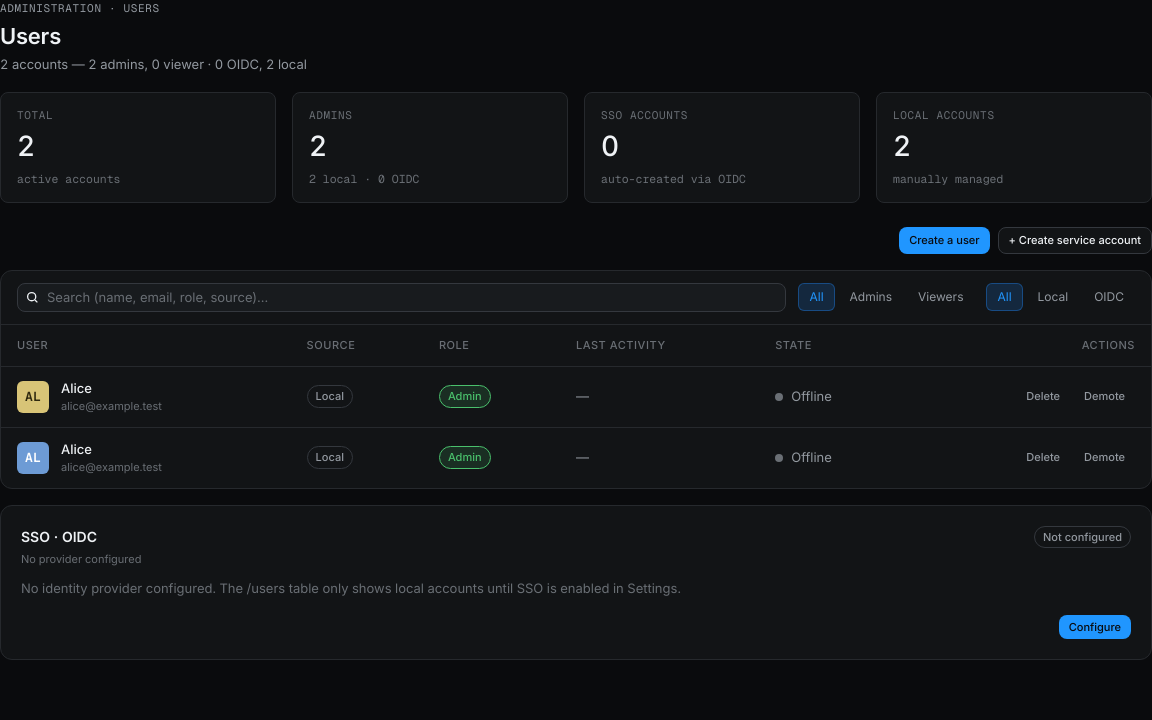
/utilisateurs — delete flow › confirm dialog → API → row removed
Click the button with test id "delete-btn-u1": (1043, 397) x1=1016 y1=384 x2=1070 y2=409
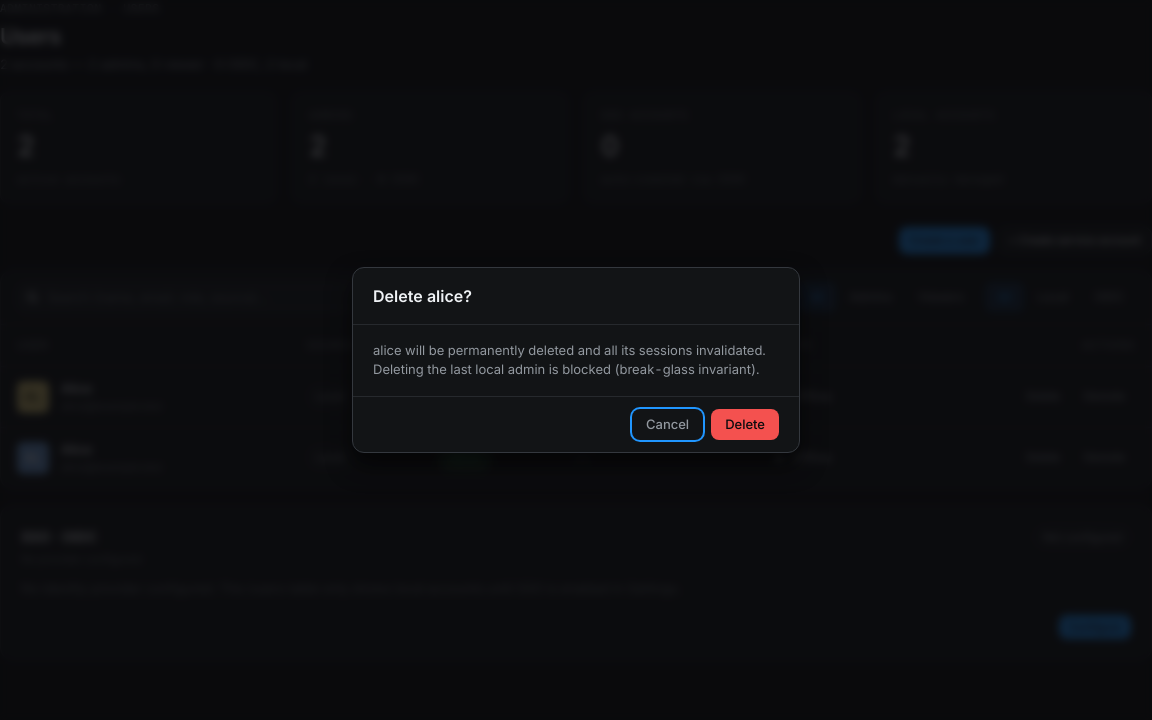
Expected: the button "Delete" is shown
Click the button "Delete": (745, 425) x1=711 y1=409 x2=779 y2=440
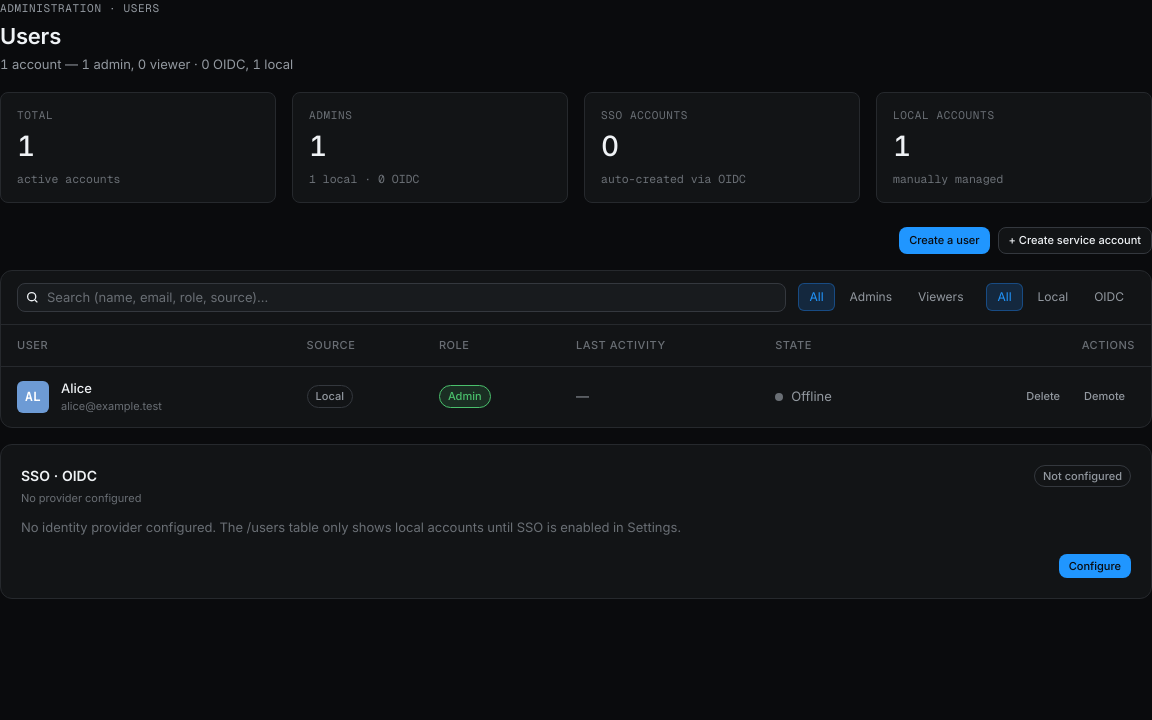
Expected: the row with test id "user-row-u2" is shown, x1=1 y1=366 x2=1151 y2=427
Expected: the row with test id "user-row-u1" is gone
